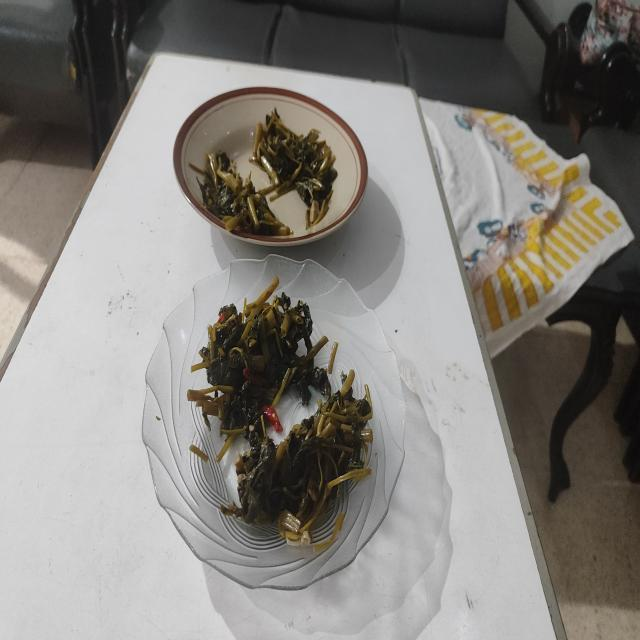tumis_kangkung: (234, 370, 374, 551), (188, 276, 330, 437), (250, 108, 338, 229), (200, 151, 288, 239)
